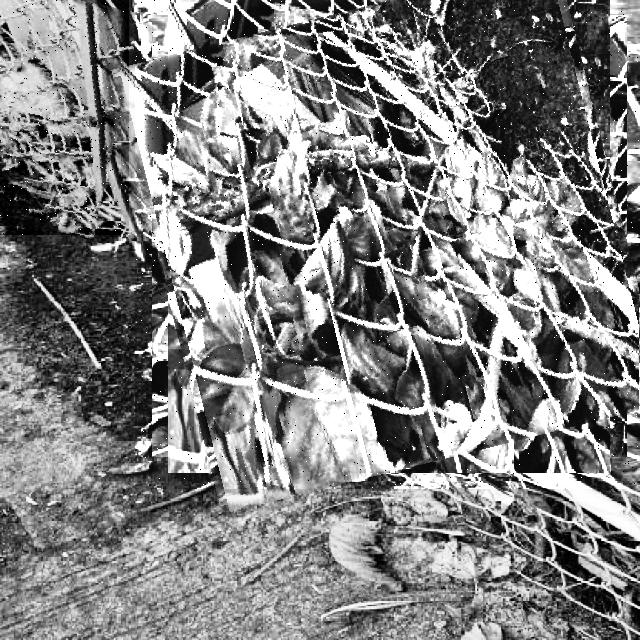fences: (135, 0, 640, 489), (0, 0, 129, 235)
